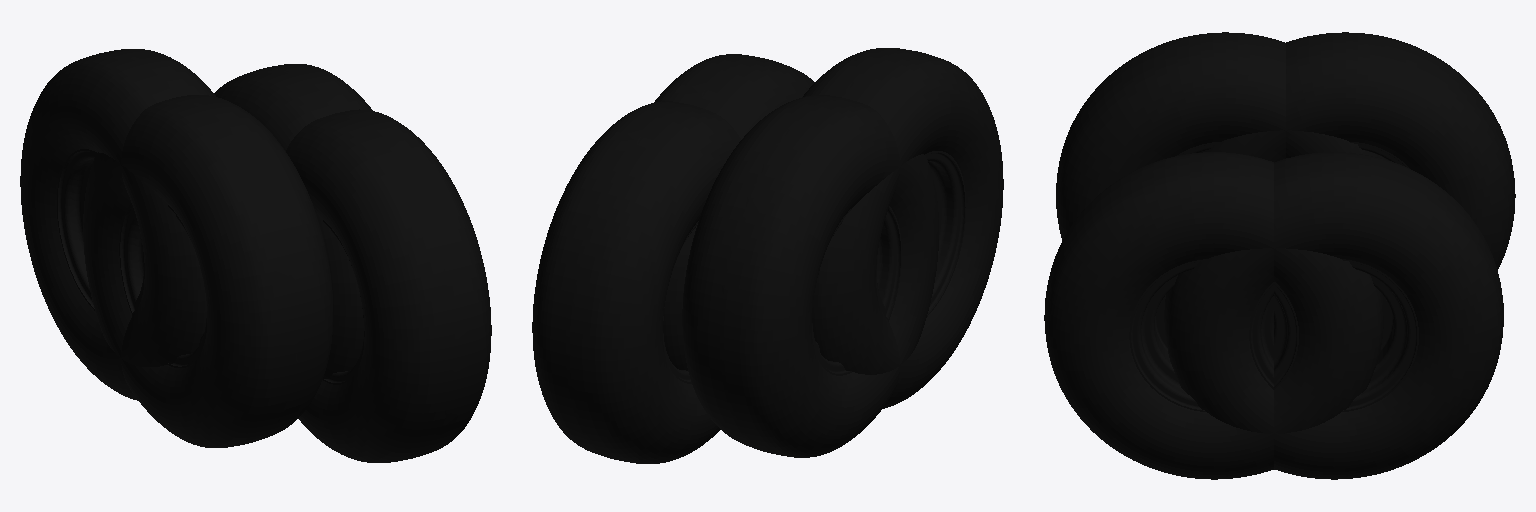
robot.urdf — corn_harvester:
<?xml version="1.0" encoding="utf-8"?>
<robot
  name="corn_harvester">
  <link name="base_footprint">
    <visual>
      <geometry>
          <sphere radius="0.001"/>
      </geometry>
    </visual>
  </link>
  <joint name="base_mount" type="fixed">
    <parent link="base_footprint"/>
    <child link="base_link"/>
    <origin 
    xyz="0.0 0.0 0.06"
    rpy="0 0 0"/>
  </joint>
  <link
    name="base_link">
    <inertial>
      <origin
        xyz="-0.00019693 0.12647 -0.08259"
        rpy="0 0 0" />
      <mass
        value="83.037" />
      <inertia
        ixx="6.2591"
        ixy="0.0025107"
        ixz="0.003809"
        iyy="6.9949"
        iyz="-0.195"
        izz="2.4431" />
    </inertial>
    <visual>
      <origin
        xyz="0 0 0"
        rpy="0 0 0" />
      <geometry>
        <mesh
          filename="package://sim01_urdf/meshes/base_link.STL" />
      </geometry>
      <material
        name="base_color">
        <color
          rgba="0.2 0.2 0.2 1" />
      </material>
    </visual>
    <collision>
      <origin
        xyz="0 0 0"
        rpy="0 0 0" />
      <geometry>
        <mesh
          filename="package://sim01_urdf/meshes/base_link.STL" />
      </geometry>
    </collision>
  </link>
  <link
    name="left_front_wheel_link0">
    <inertial>
      <origin
        xyz="-0.18858 -2.67E-09 -2.5107E-06"
        rpy="0 0 0" />
      <mass
        value="0.98793" />
      <inertia
        ixx="0.0038903"
        ixy="-8.792E-15"
        ixz="1.334E-08"
        iyy="0.0023448"
        iyz="-1.4876E-14"
        izz="0.0023448" />
    </inertial>
    <visual>
      <origin
        xyz="0 0 0"
        rpy="0 0 0" />
      <geometry>
        <mesh
          filename="package://sim01_urdf/meshes/left_front_wheel_link0.STL" />
      </geometry>
      <material
        name="left_wheel_color">
        <color
          rgba="0.1 0.1 0.1 1" />
      </material>
    </visual>
    <collision>
      <origin
        xyz="0 0 0"
        rpy="0 0 0" />
      <geometry>
        <mesh
          filename="package://sim01_urdf/meshes/left_front_wheel_link0.STL" />
      </geometry>
    </collision>
  </link>
  <joint
    name="left_front_wheel_joint0"
    type="continuous">
    <origin
      xyz="-0.09 0.3 0.03"
      rpy="1.5708 0 0" />
    <parent
      link="base_link" />
    <child
      link="left_front_wheel_link0" />
    <axis
      xyz="1 0 0" />
  </joint>
  <link
    name="right_front_wheel_link1">
    <inertial>
      <origin
        xyz="-0.18858 -2.67E-09 -2.5107E-06"
        rpy="0 0 0" />
      <mass
        value="0.98793" />
      <inertia
        ixx="0.0038903"
        ixy="-8.7921E-15"
        ixz="1.334E-08"
        iyy="0.0023448"
        iyz="-1.4876E-14"
        izz="0.0023448" />
    </inertial>
    <visual>
      <origin
        xyz="0 0 0"
        rpy="0 0 0" />
      <geometry>
        <mesh
          filename="package://sim01_urdf/meshes/right_front_wheel_link1.STL" />
      </geometry>
      <material
        name="right_wheel_color">
        <color
          rgba="0.1 0.1 0.1 1" />
      </material>
    </visual>
    <collision>
      <origin
        xyz="0 0 0"
        rpy="0 0 0" />
      <geometry>
        <mesh
          filename="package://sim01_urdf/meshes/right_front_wheel_link1.STL" />
      </geometry>
    </collision>
  </link>
  <joint
    name="right_front_wheel_joint1"
    type="continuous">
    <origin
      xyz="0.09 0.3 0.03"
      rpy="-1.1331 0 3.1416" />
    <parent
      link="base_link" />
    <child
      link="right_front_wheel_link1" />
    <axis
      xyz="1 0 0" />
  </joint>
  <link
    name="right_rear_wheel_link2">
    <inertial>
      <origin
        xyz="-0.18858 -2.67E-09 -2.5107E-06"
        rpy="0 0 0" />
      <mass
        value="0.98793" />
      <inertia
        ixx="0.0038903"
        ixy="-8.7919E-15"
        ixz="1.334E-08"
        iyy="0.0023448"
        iyz="-1.4876E-14"
        izz="0.0023448" />
    </inertial>
    <visual>
      <origin
        xyz="0 0 0"
        rpy="0 0 0" />
      <geometry>
        <mesh
          filename="package://sim01_urdf/meshes/right_rear_wheel_link2.STL" />
      </geometry>
      <material
        name="right_wheel_color">
        <color
          rgba="0.1 0.1 0.1 1" />
      </material>
    </visual>
    <collision>
      <origin
        xyz="0 0 0"
        rpy="0 0 0" />
      <geometry>
        <mesh
          filename="package://sim01_urdf/meshes/right_rear_wheel_link2.STL" />
      </geometry>
    </collision>
  </link>
  <joint
    name="right_rear_wheel_joint2"
    type="continuous">
    <origin
      xyz="0.09 -0.3 0.03"
      rpy="-1.1331 0 3.1416" />
    <parent
      link="base_link" />
    <child
      link="right_rear_wheel_link2" />
    <axis
      xyz="1 0 0" />
  </joint>
  <link
    name="left_rear_wheel_link3">
    <inertial>
      <origin
        xyz="-0.18858 -2.67E-09 -2.5107E-06"
        rpy="0 0 0" />
      <mass
        value="0.98793" />
      <inertia
        ixx="0.0038903"
        ixy="-8.792E-15"
        ixz="1.334E-08"
        iyy="0.0023448"
        iyz="-1.4876E-14"
        izz="0.0023448" />
    </inertial>
    <visual>
      <origin
        xyz="0 0 0"
        rpy="0 0 0" />
      <geometry>
        <mesh
          filename="package://sim01_urdf/meshes/left_rear_wheel_link3.STL" />
      </geometry>
      <material
        name="left_wheel_color">
        <color
          rgba="0.1 0.1 0.1 1" />
      </material>
    </visual>
    <collision>
      <origin
        xyz="0 0 0"
        rpy="0 0 0" />
      <geometry>
        <mesh
          filename="package://sim01_urdf/meshes/left_rear_wheel_link3.STL" />
      </geometry>
    </collision>
  </link>
  <joint
    name="left_rear_wheel_joint3"
    type="continuous">
    <origin
      xyz="-0.09 -0.3 0.03"
      rpy="1.5708 0 0" />
    <parent
      link="base_link" />
    <child
      link="left_rear_wheel_link3" />
    <axis
      xyz="1 0 0" />
  </joint>
  <link
    name="laser_link">
    <inertial>
      <origin
        xyz="0.00018031 0.0065305 2.0389E-07"
        rpy="0 0 0" />
      <mass
        value="0.15944" />
      <inertia
        ixx="4.828E-05"
        ixy="3.055E-07"
        ixz="1.2913E-10"
        iyy="8.1461E-05"
        iyz="1.2923E-10"
        izz="5.1563E-05" />
    </inertial>
    <visual>
      <!-- <origin
        xyz="0 0 0"
        rpy="0 0 0" /> -->
      <origin
        xyz="0 0 0"
        rpy="-1.5708 0 -1.5708" />
      <geometry>
        <mesh
          filename="package://sim01_urdf/meshes/laser_link.STL" />
      </geometry>
      <material
        name="laser_glass">
        <color
          rgba="0 0 1 0.96" />
      </material>
    </visual>
    <collision>
      <origin
        xyz="0 0 0"
        rpy="0 0 0" />
      <geometry>
        <mesh
          filename="package://sim01_urdf/meshes/laser_link.STL" />
      </geometry>
    </collision>
  </link>
  <joint
    name="laser_mount"
    type="fixed">
    <!-- <origin
      xyz="0 0.25 0.43"
      rpy="-1.5708 0 -1.5708" /> -->
    <origin
      xyz="0 0.25 0.43"
      rpy="0 0 0" />
    <parent
      link="base_link" />
    <child
      link="laser_link" />
    <axis
      xyz="0 0 0" />
  </joint>
</robot>

--- Facts derived from the render (not from the file) ---
The picture shows the robot from 3 angles, left to right: view 1: azimuth 30°, elevation 25°; view 2: azimuth 150°, elevation 25°; view 3: azimuth 270°, elevation 25°; orthographic projection.
Model corn_harvester with 7 links and 6 joints (4 continuous, 2 fixed), rooted at base_footprint, posed every joint at zero.
Links seen in each view (by area): view 1: left_rear_wheel_link3, right_rear_wheel_link2, left_front_wheel_link0, right_front_wheel_link1; view 2: left_front_wheel_link0, right_front_wheel_link1, left_rear_wheel_link3, right_rear_wheel_link2; view 3: right_front_wheel_link1, right_rear_wheel_link2, left_front_wheel_link0, left_rear_wheel_link3.
Boxes of the visible links, x1,y1,x2,y2 form: left_rear_wheel_link3: (83,95,332,447); right_rear_wheel_link2: (286,109,491,462); left_front_wheel_link0: (20,49,215,400); right_front_wheel_link1: (214,64,372,378); left_front_wheel_link0: (682,95,938,457); right_front_wheel_link1: (532,101,740,463); left_rear_wheel_link3: (803,48,1003,408); right_rear_wheel_link2: (654,54,814,370); right_front_wheel_link1: (1164,152,1503,479); right_rear_wheel_link2: (1044,152,1383,479); left_front_wheel_link0: (1199,32,1515,269); left_rear_wheel_link3: (1056,32,1388,240).
Bounding box of the posed robot: 1.46 × 2.36 × 1.96 m (x, y, z).
4 mesh visuals loaded from 6 distinct referenced files (4 binary STL); not drawn: 2 (reference not matched to a file when rendering).
